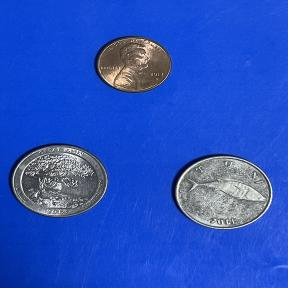Croatia-2Kune-B: (168, 150, 278, 234)
US-1cent-B: (90, 31, 175, 97)
US-25cent-B: (6, 138, 112, 220)
